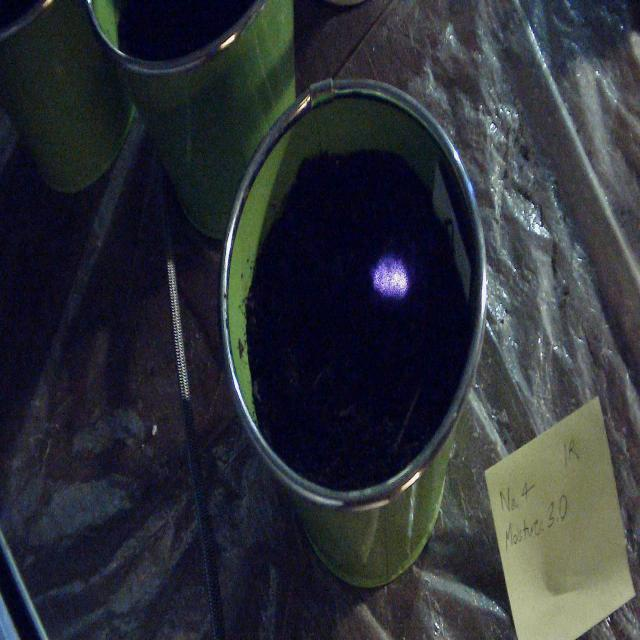soil-moisture-3.0: (371, 254, 408, 298)
